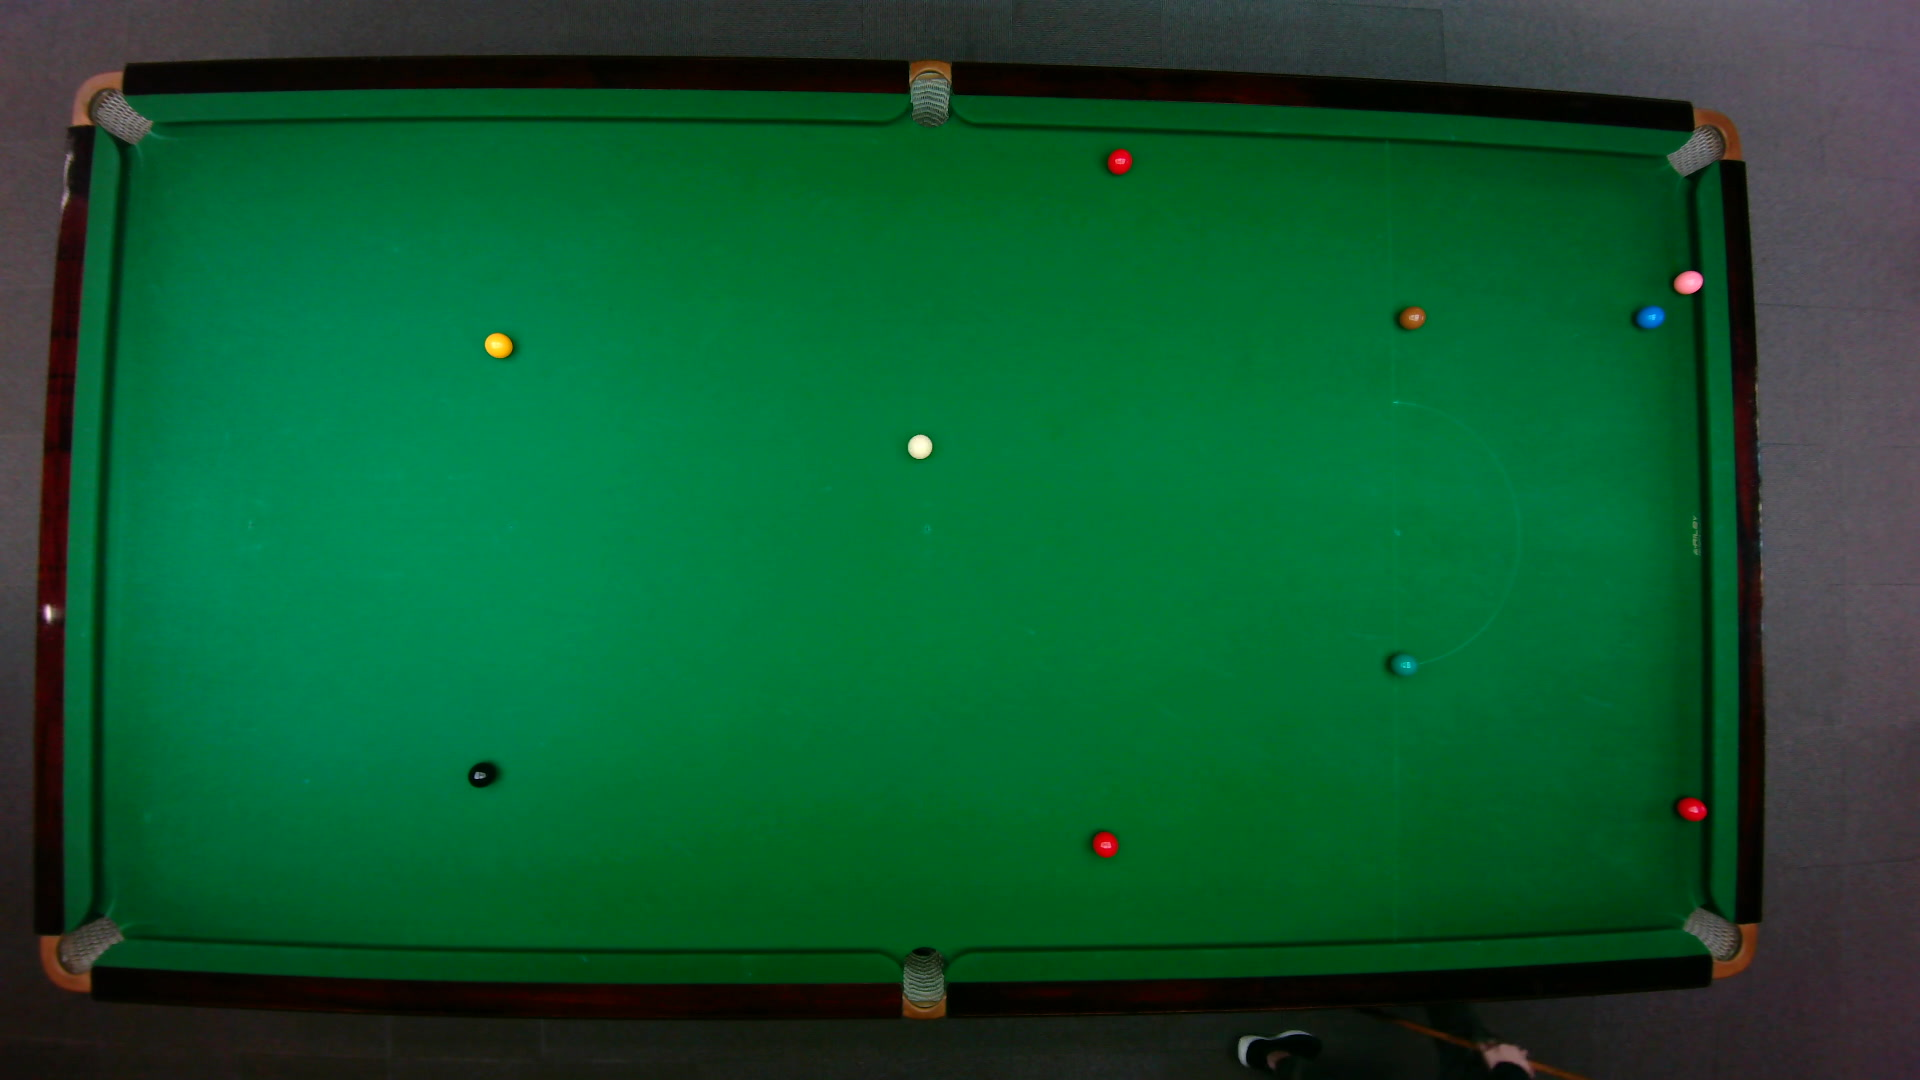bag: (37, 914, 125, 993), (69, 69, 153, 145), (1677, 905, 1758, 978), (1663, 107, 1742, 177), (901, 944, 944, 1021), (909, 57, 949, 128)
black: (465, 760, 496, 789)
blue: (1634, 303, 1665, 328)
brown: (1396, 305, 1427, 328)
green: (1389, 650, 1418, 676)
pink: (1669, 266, 1704, 295)
red: (1089, 828, 1120, 858), (1673, 795, 1708, 822), (1104, 146, 1133, 175)
white: (905, 431, 934, 460)
yellow: (481, 330, 513, 359)
zone: (1389, 400, 1519, 669)
